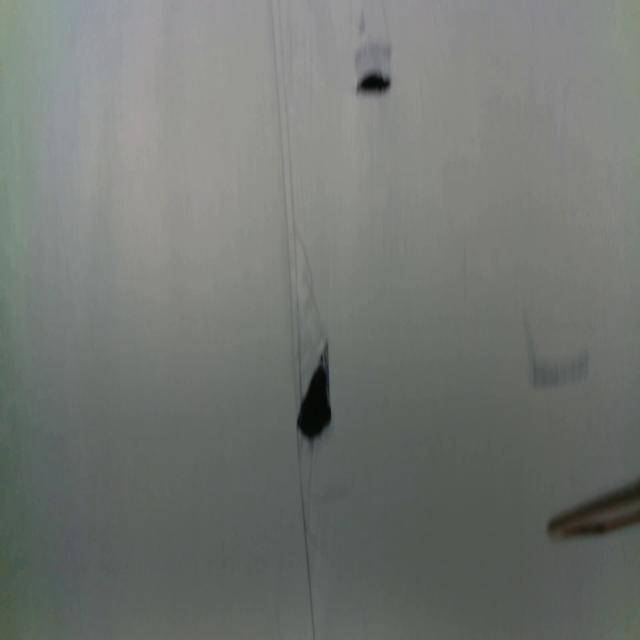crease: (270, 0, 302, 401), (296, 432, 315, 640)
hole: (297, 338, 333, 444), (355, 69, 391, 100)
